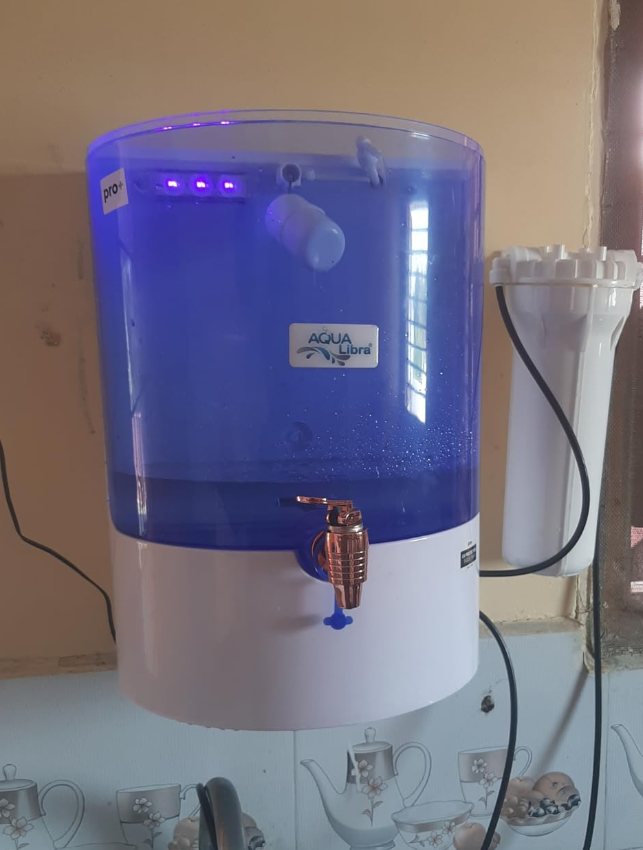water purifier: (69, 103, 503, 740)
